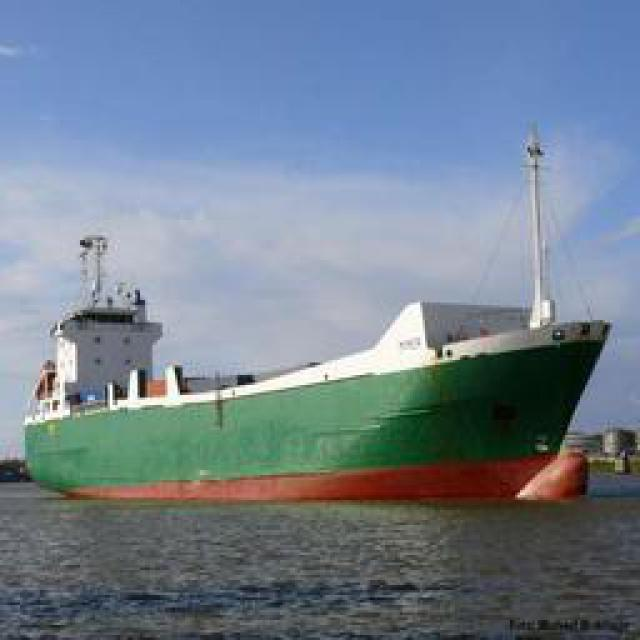Ship: (32, 211, 620, 504)
